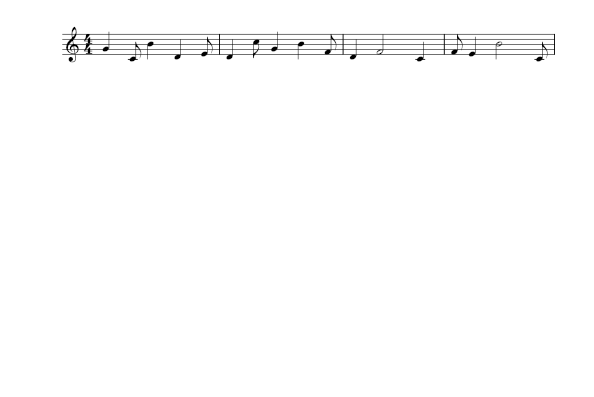Treble Clef: (63, 21, 83, 65)
